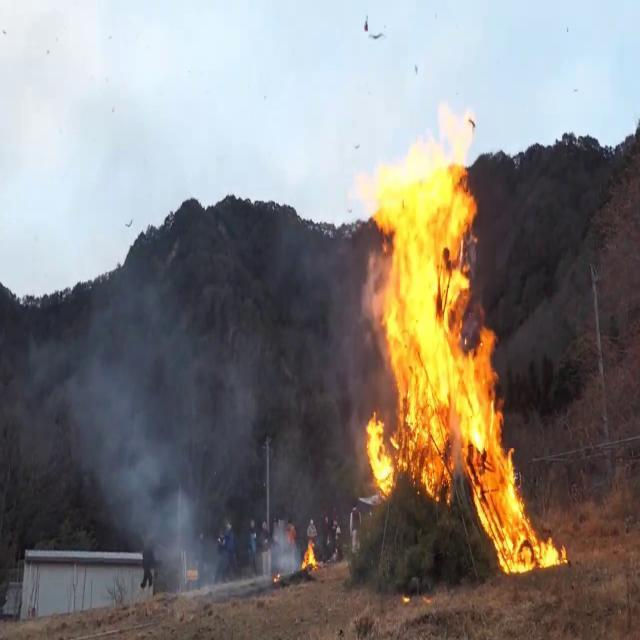Fire: (358, 89, 552, 587), (299, 536, 320, 577)
Smoke: (1, 246, 224, 582)
